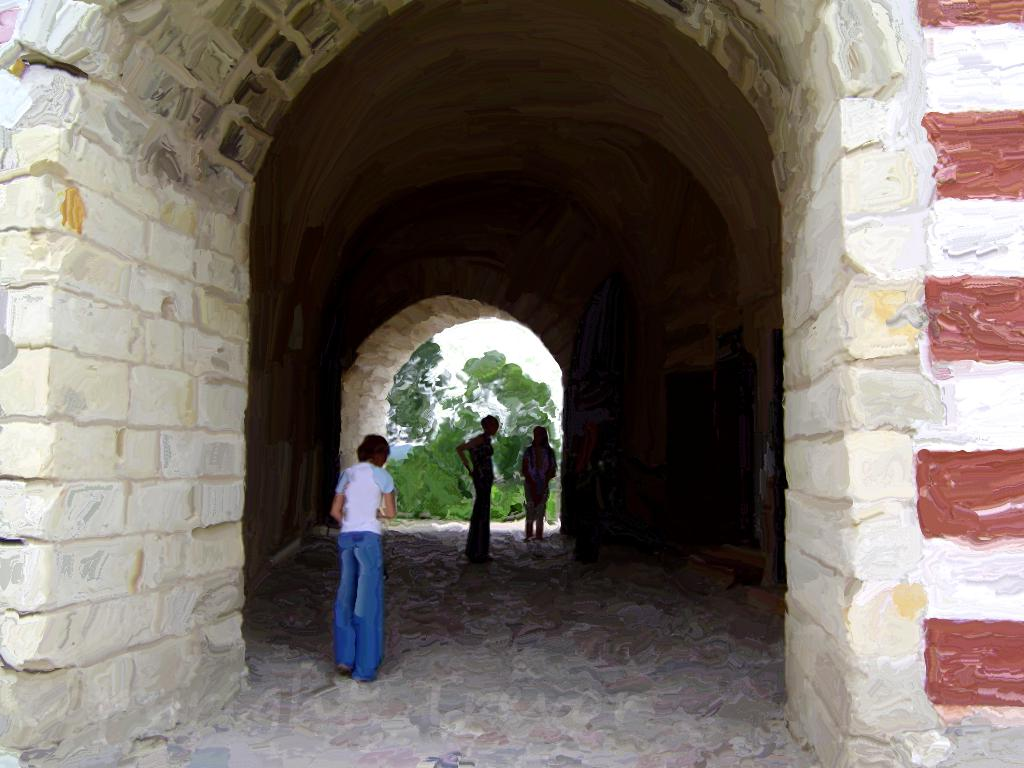Person: (328, 432, 397, 682), (459, 416, 503, 559), (519, 429, 558, 540)
